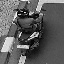motor: (13, 7, 43, 55)
